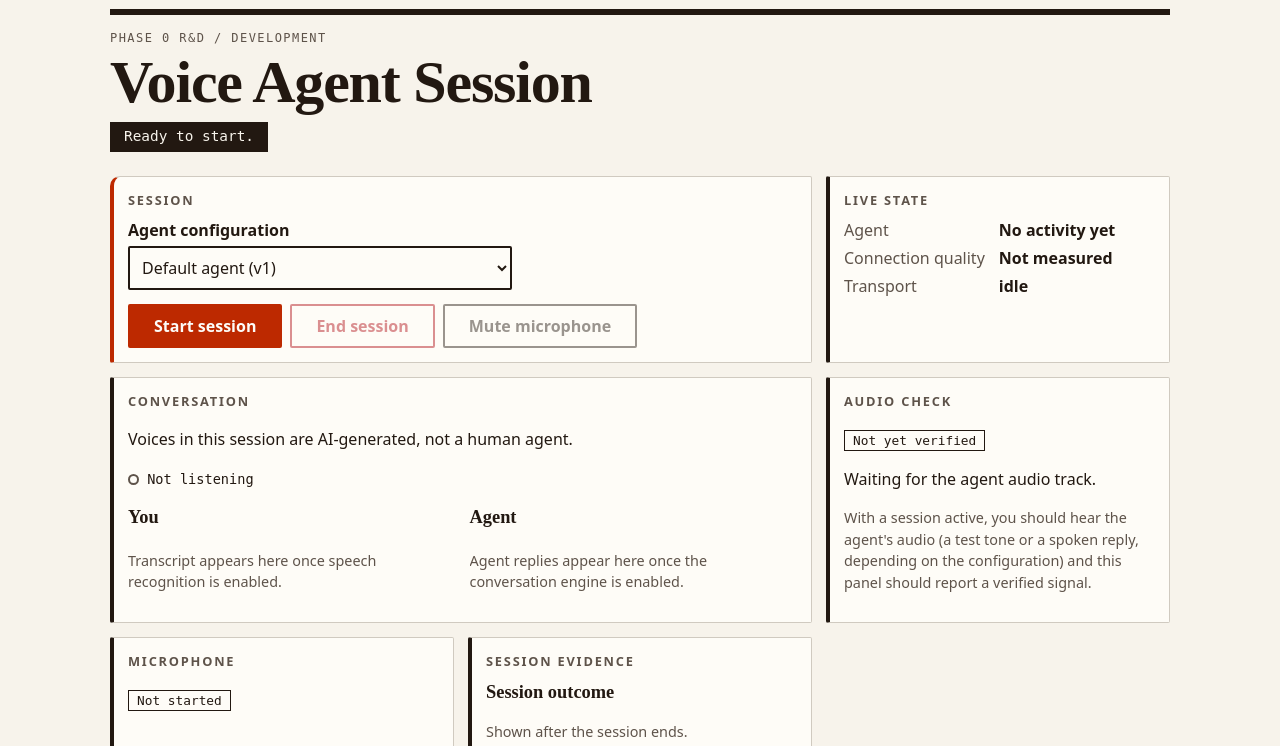
speech recognition summary › shows operation count, audio seconds and cost after the session ends
Click the button "Start session".
click(205, 326)  # box [128,304,282,348]
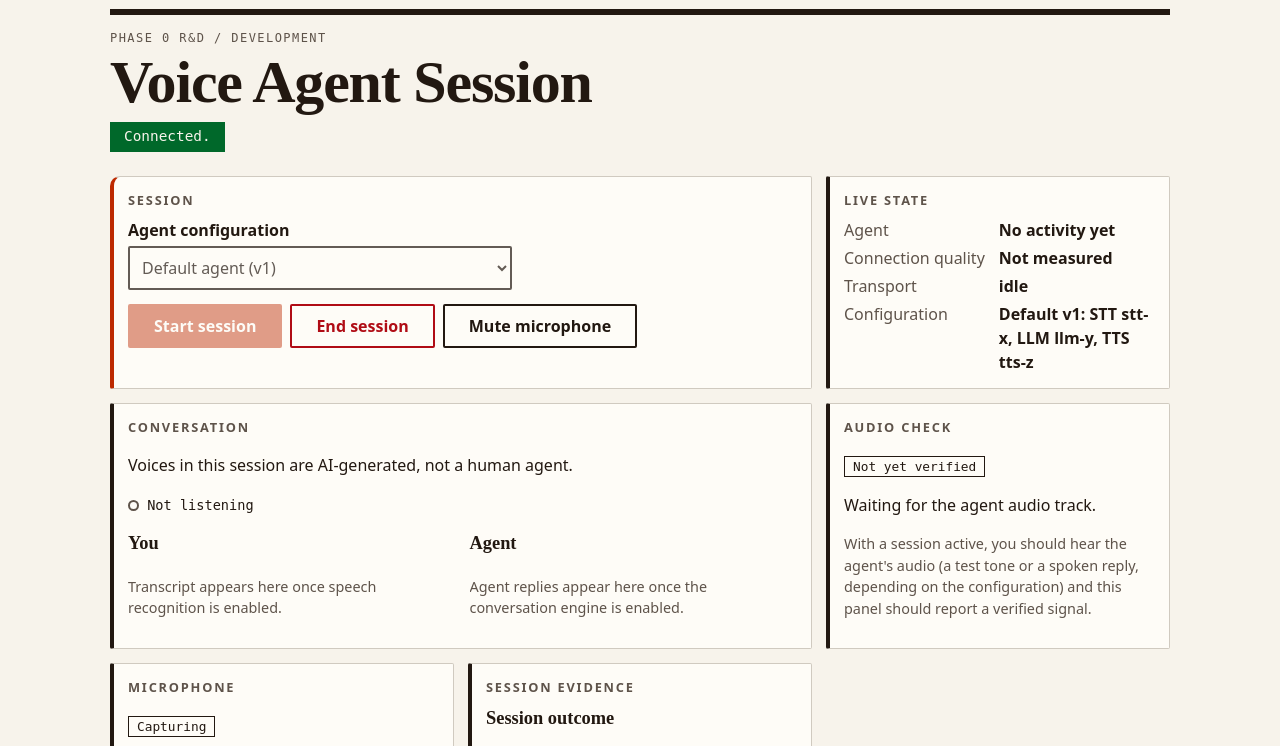
Expected: the message "Connected." is shown, [110,122,225,152]
Click the button "End session".
click(363, 326)  # box [290,304,435,348]
(page scrolled)
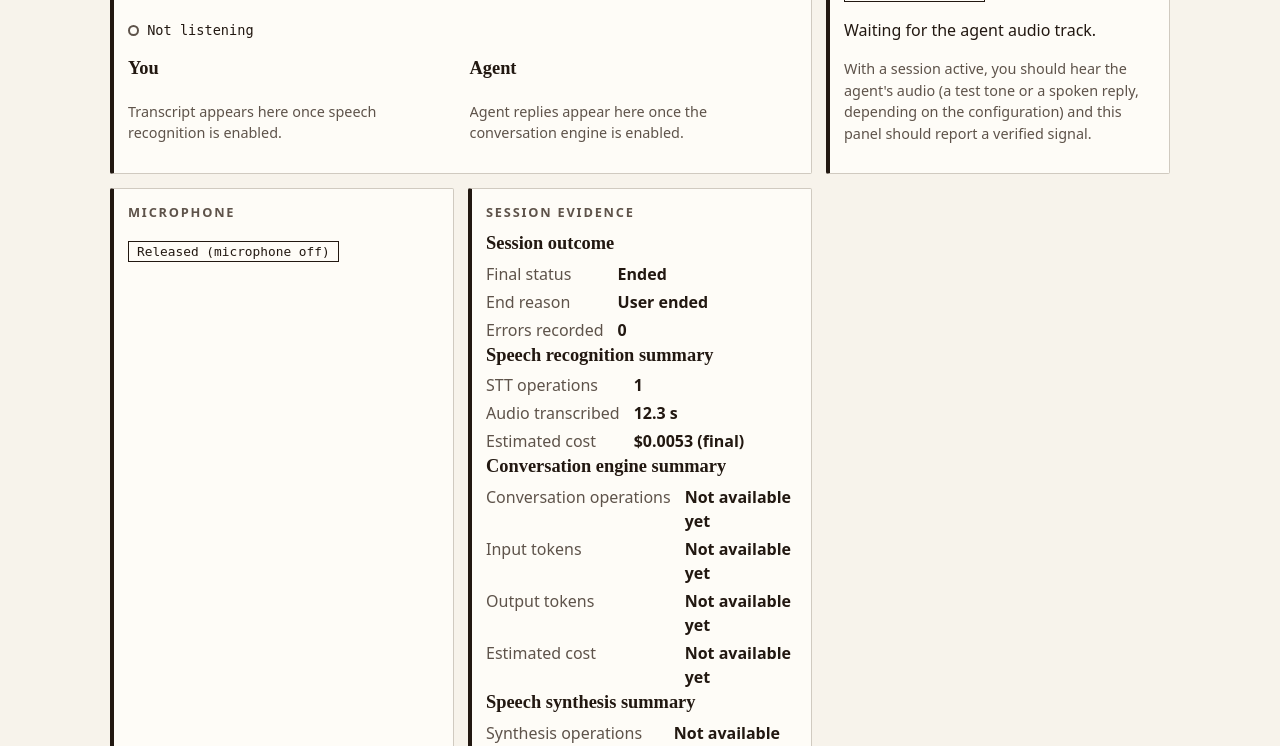
Expected: the element "Speech recognition summary" shows "12.3 s", [634,402,678,424]
Expected: the element "Speech recognition summary" shows "$0.0053 (final)", [634,430,744,452]
Expected: the text "1" is shown, [634,374,643,396]
